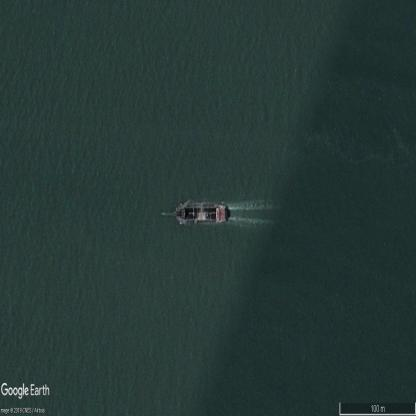ship: (175, 197, 229, 226)
